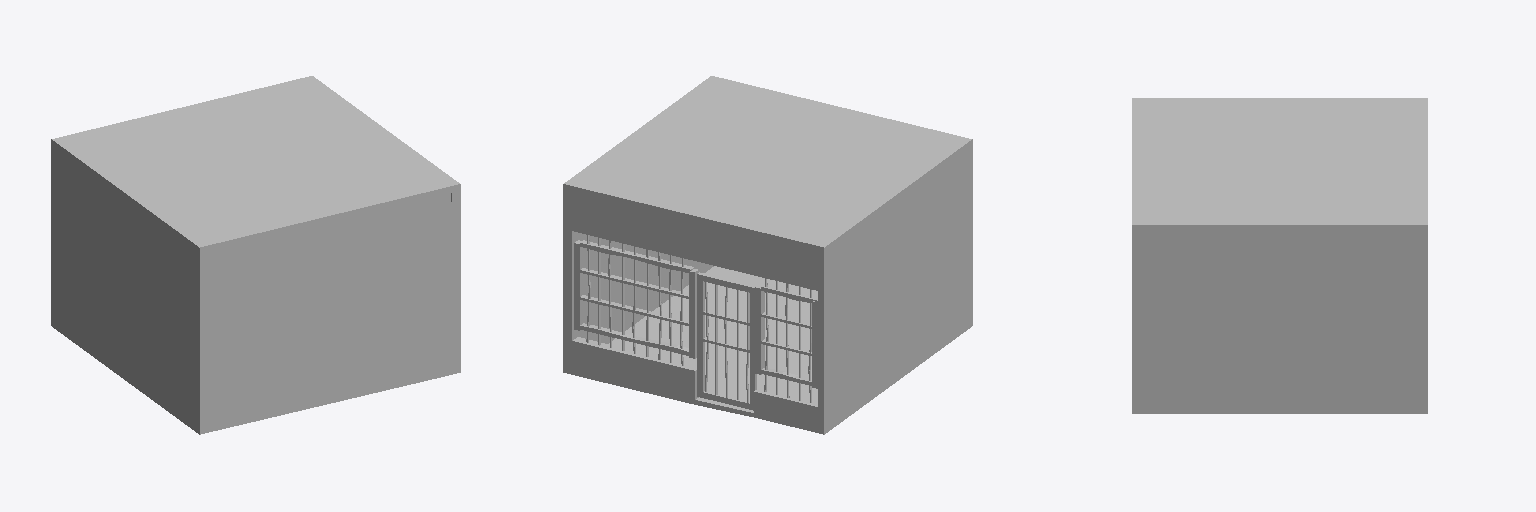
The model's file is WaitingRoom.obj.
3 renders of one model, left to right at view 1: azimuth 30°, elevation 25°; view 2: azimuth 150°, elevation 25°; view 3: azimuth 270°, elevation 25°, orthographic.
Parts seen in each view (by area): view 1: Cube; view 2: Cube, Cube_Cube.001, Null1_Null2_Cube_51, Null1_Cube_52, Null1_Null_1_Cube_5; view 3: Cube.
Part boxes in pixels (x1,y1,x2,y2): Cube: (51, 76, 460, 434); Cube: (563, 76, 972, 434); Cube_Cube.001: (609, 266, 817, 412); Null1_Null2_Cube_51: (574, 235, 698, 365); Null1_Cube_52: (697, 272, 756, 410); Null1_Null_1_Cube_5: (755, 278, 817, 402); Cube: (1132, 98, 1427, 413).
Size of the model in its own units: 3.99 by 2.76 by 3.92.